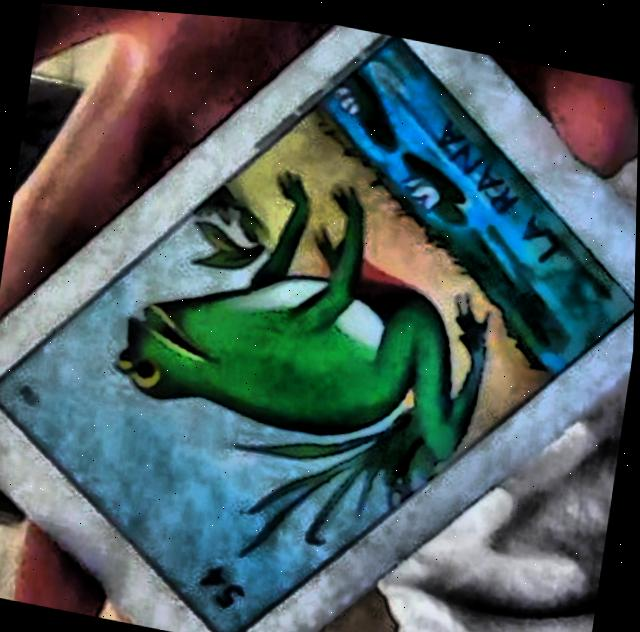La Rana: (0, 31, 636, 632)
